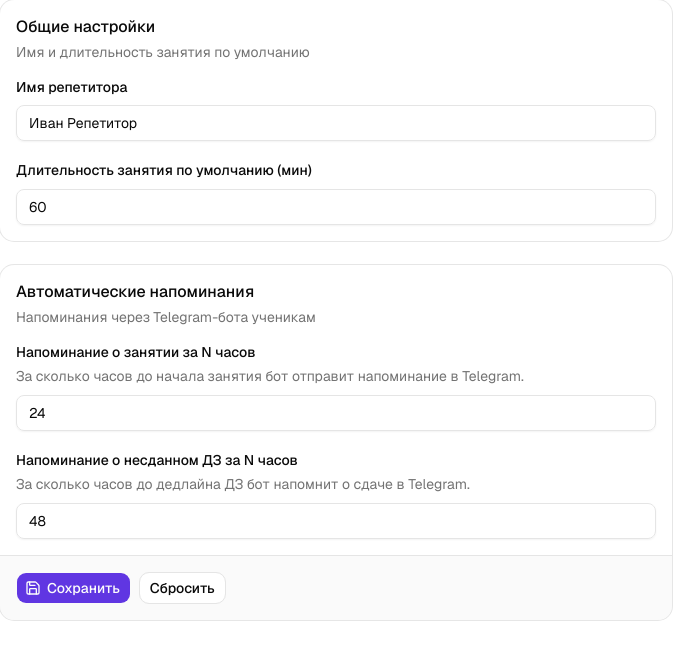
SettingsForm (integration + MSW) › валидация: пустое имя — ошибка у поля, без успешного toast
The width and height of the screenshot is (690, 666).
Clear the field labelled "Имя репетитора" at (336, 123), box [16,105,656,141]
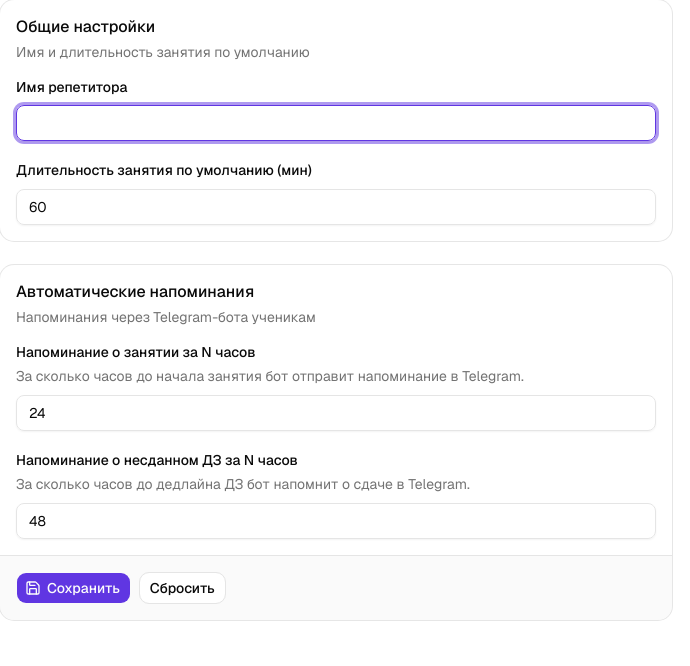
Click the button "Сохранить" at (73, 588), box [16,572,131,604]
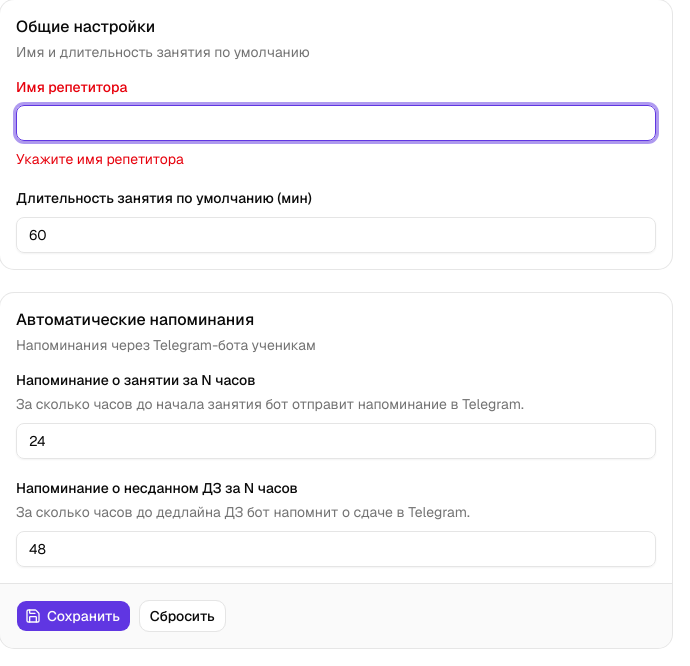
Check: the text "Укажите имя репетитора" is shown, box [16,150,184,168]
